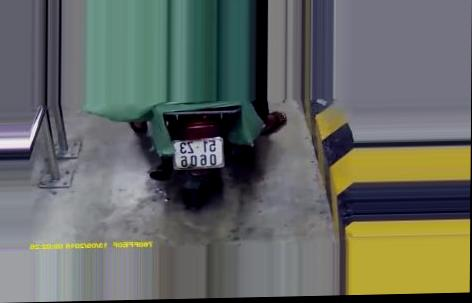License_Plate: (170, 133, 230, 173)
